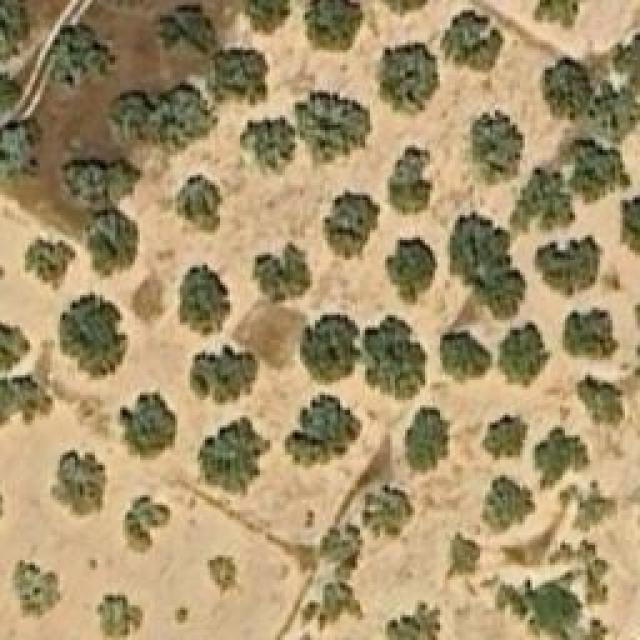Tree: (450, 213, 525, 318), (60, 292, 130, 380), (283, 393, 363, 468), (198, 417, 271, 495), (365, 315, 428, 403), (378, 42, 441, 120), (305, 90, 372, 163), (562, 138, 630, 203), (513, 163, 576, 233), (118, 390, 178, 463), (190, 343, 258, 406), (323, 190, 383, 260), (535, 235, 605, 295), (440, 10, 505, 73), (178, 265, 233, 338), (473, 110, 526, 185), (519, 577, 582, 640), (383, 235, 438, 305), (253, 243, 313, 306), (203, 50, 266, 110), (50, 450, 108, 515), (302, 315, 360, 380), (85, 210, 138, 280), (532, 428, 590, 491), (48, 27, 111, 85), (242, 115, 300, 173), (60, 157, 128, 205), (155, 0, 219, 51), (13, 558, 66, 618), (562, 308, 620, 361), (483, 472, 536, 530), (388, 147, 433, 215), (305, 0, 365, 50), (123, 495, 173, 555), (173, 173, 223, 233), (25, 238, 78, 291), (405, 408, 448, 473), (540, 58, 591, 112), (105, 95, 160, 145), (363, 488, 416, 538), (0, 120, 40, 183), (318, 528, 363, 583), (480, 412, 530, 460), (588, 85, 640, 131), (438, 335, 491, 378), (500, 325, 538, 383), (98, 592, 143, 640), (522, 0, 589, 32), (0, 0, 30, 68), (388, 602, 441, 640), (0, 310, 30, 373), (580, 380, 620, 423), (245, 0, 293, 34), (448, 533, 483, 578), (373, 0, 433, 18), (207, 557, 235, 595), (0, 73, 18, 123)
